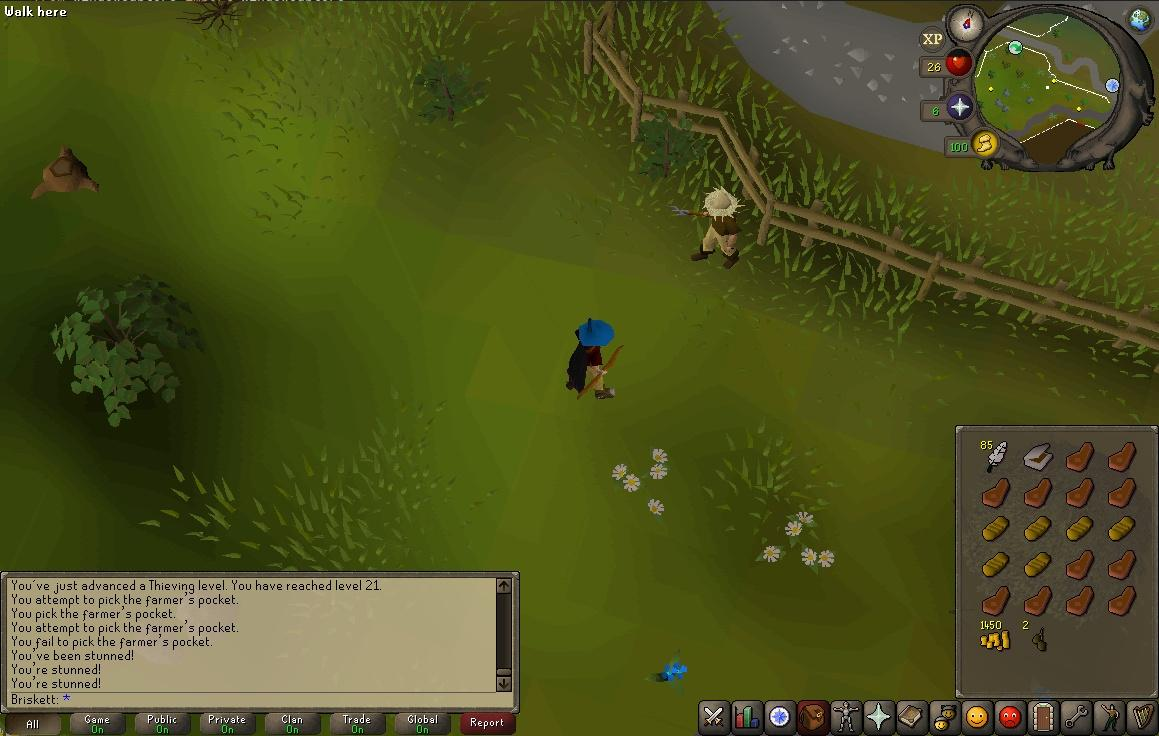Farmer: (674, 186, 744, 270)
